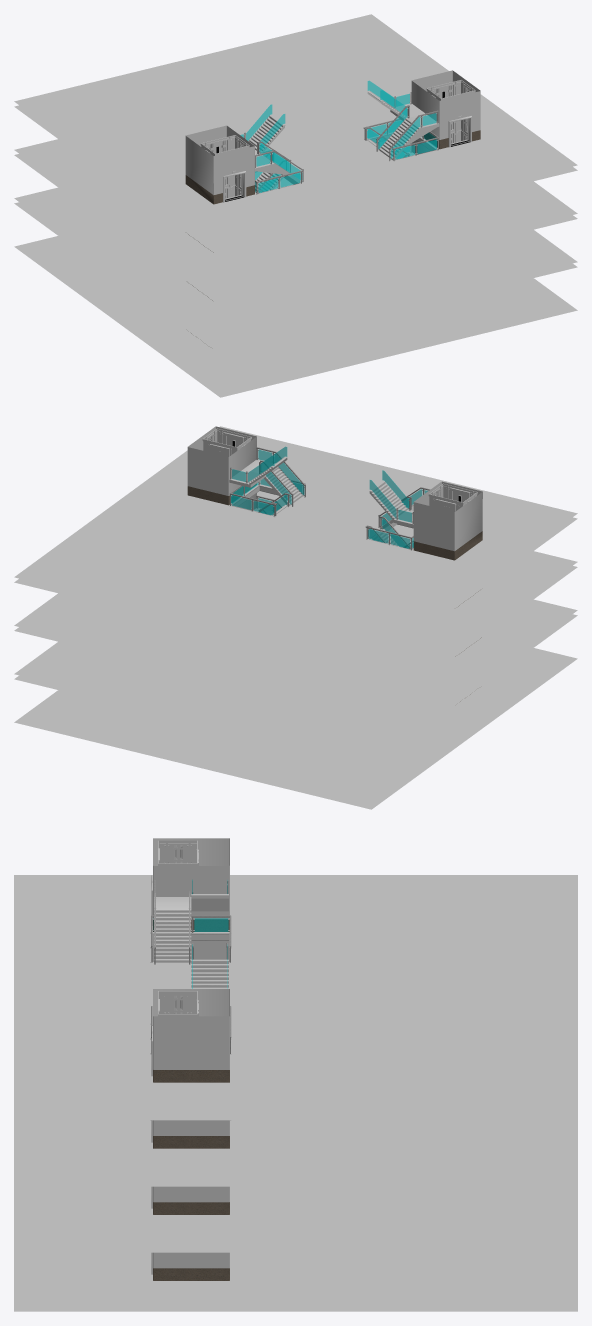
File: Building03_Interior02.fbx
3 views of the same model, one above another, from view 1: azimuth 30°, elevation 25°; view 2: azimuth 150°, elevation 25°; view 3: azimuth 270°, elevation 25° (orthographic). The views are drawn at different scales.
Visible parts, largest first — view 1: Building03_Interior02; view 2: Building03_Interior02; view 3: Building03_Interior02.
Boxes of the visible parts, x1,y1,x2,y2 form: Building03_Interior02: (14,14,577,397); Building03_Interior02: (14,426,577,809); Building03_Interior02: (14,838,577,1311).
Size of the model in its own units: 3132 by 1818 by 3131.
